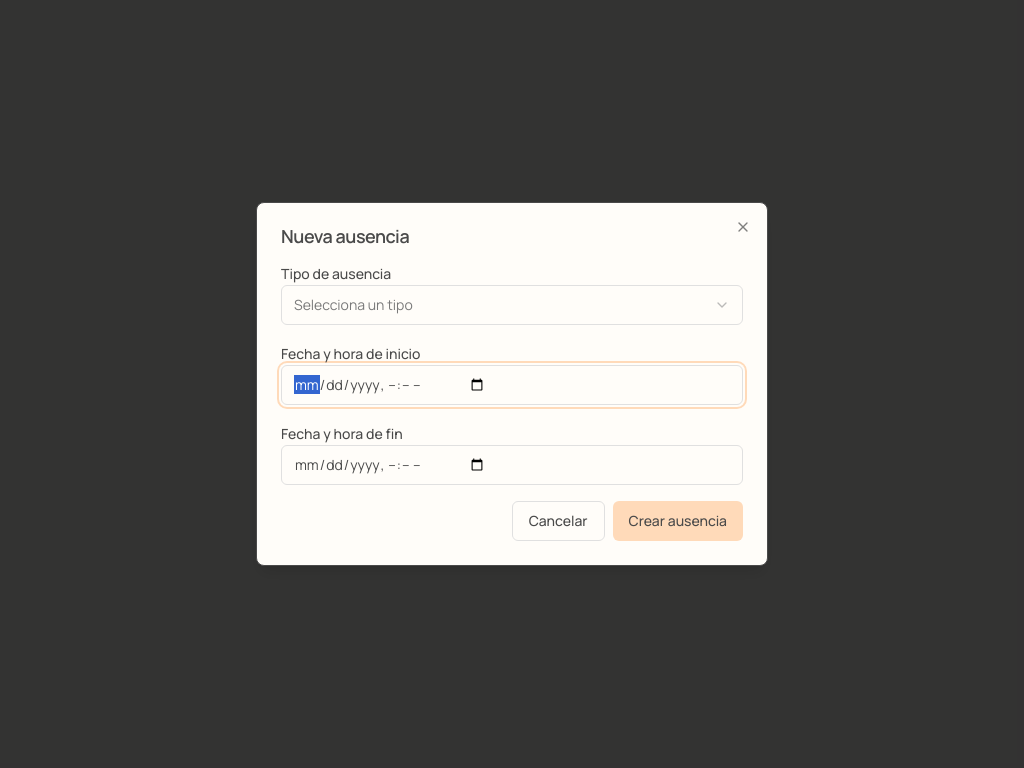
AbsenceFormDialog › muestra errores de validación al enviar el formulario sin completar campos requeridos
Check: the dropdown named "Tipo de ausencia" is shown, box [281,285,743,325]
What coordinates should you click on to do the following:
click the button "Crear ausencia"
I would click on:
 (678, 521)
Its box is [612,501,743,541].
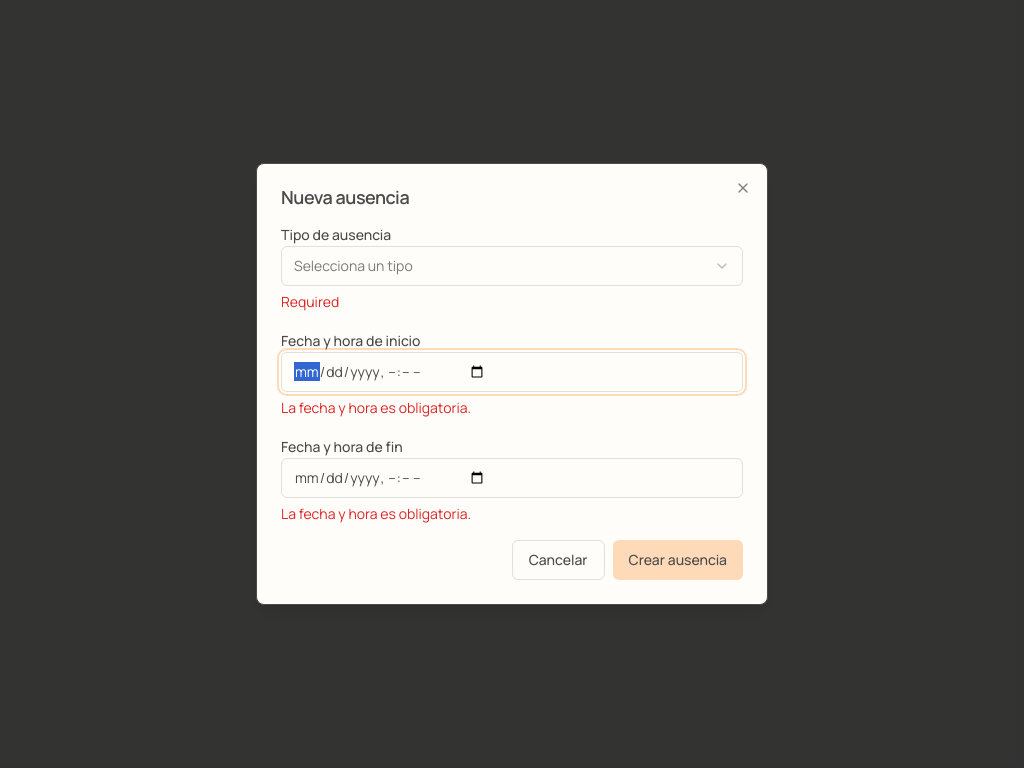
Check: the message "Required" is shown, box [281,292,339,311]
